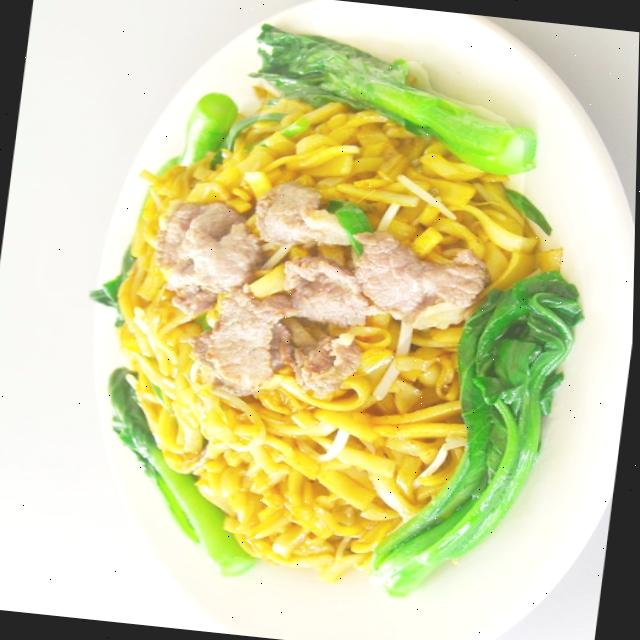面条主食: (4, 0, 640, 640)
